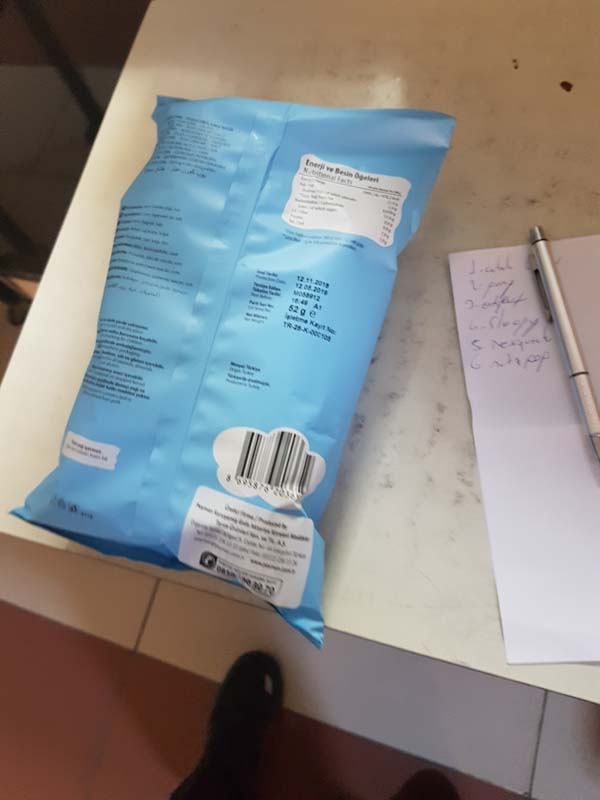popcorn: (16, 91, 474, 680)
